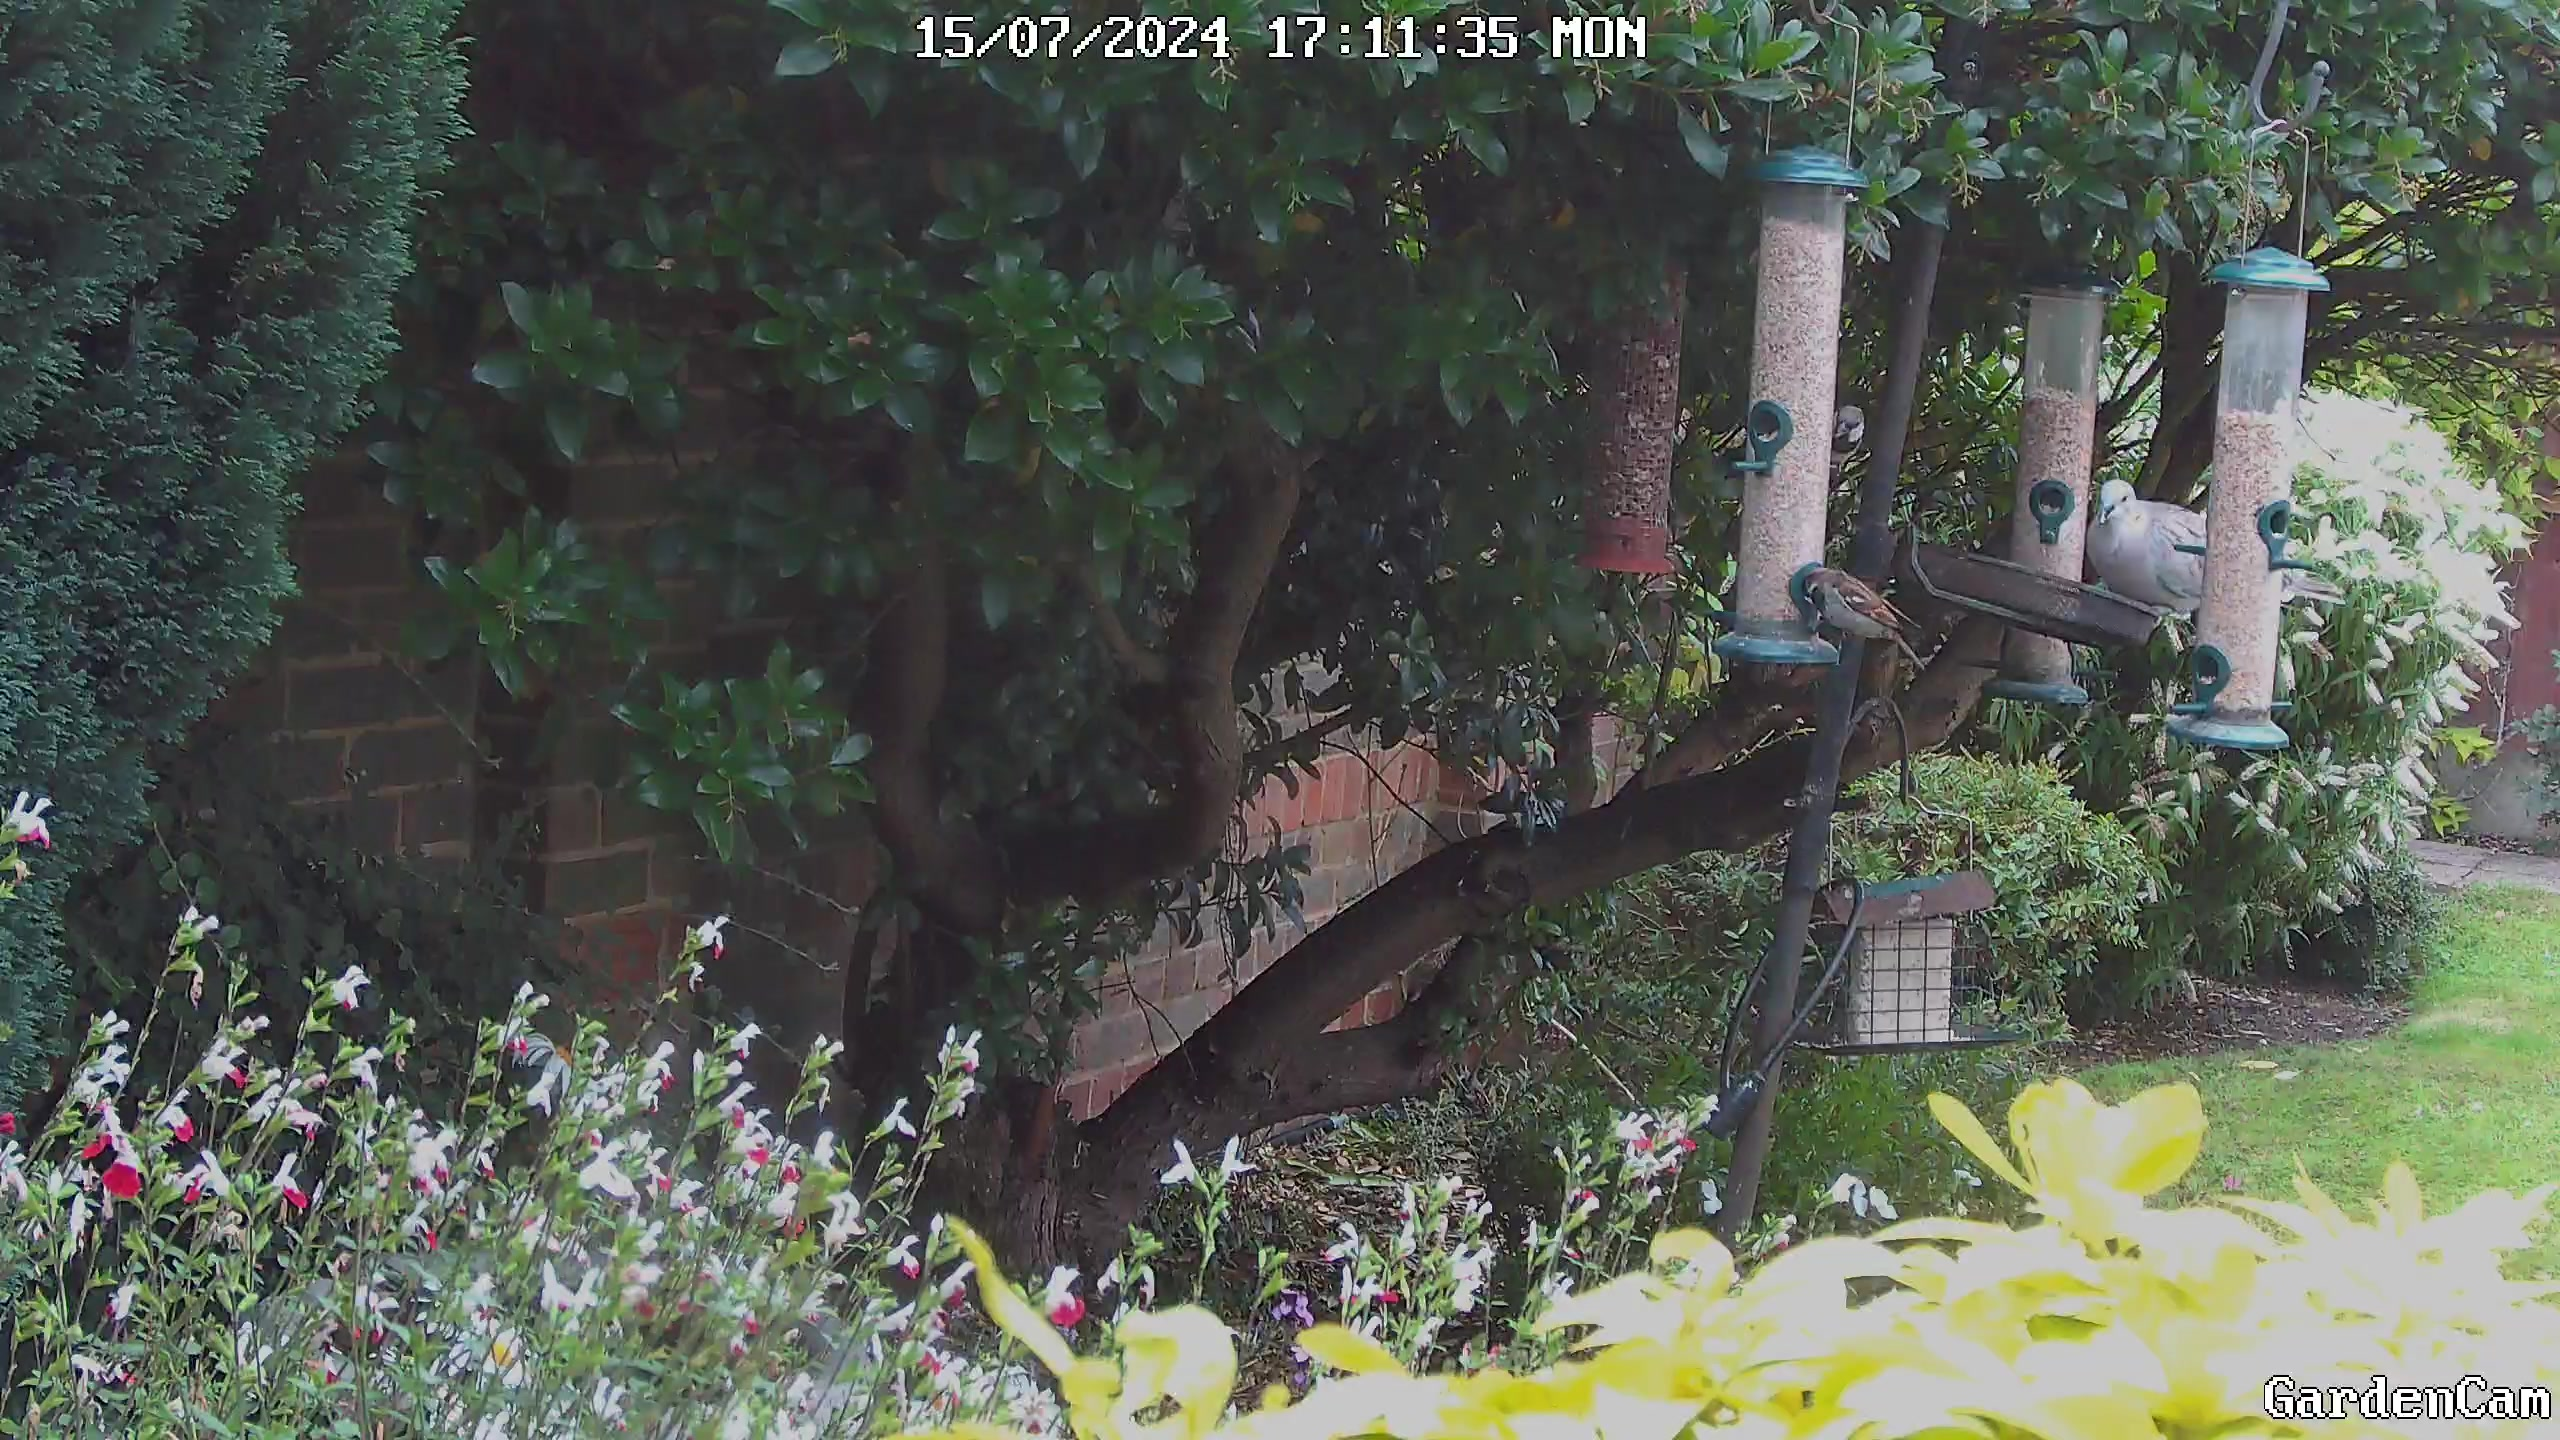House_Sparrow: (1774, 554, 1950, 684)
White_Collared_Dove: (2071, 462, 2361, 663)
